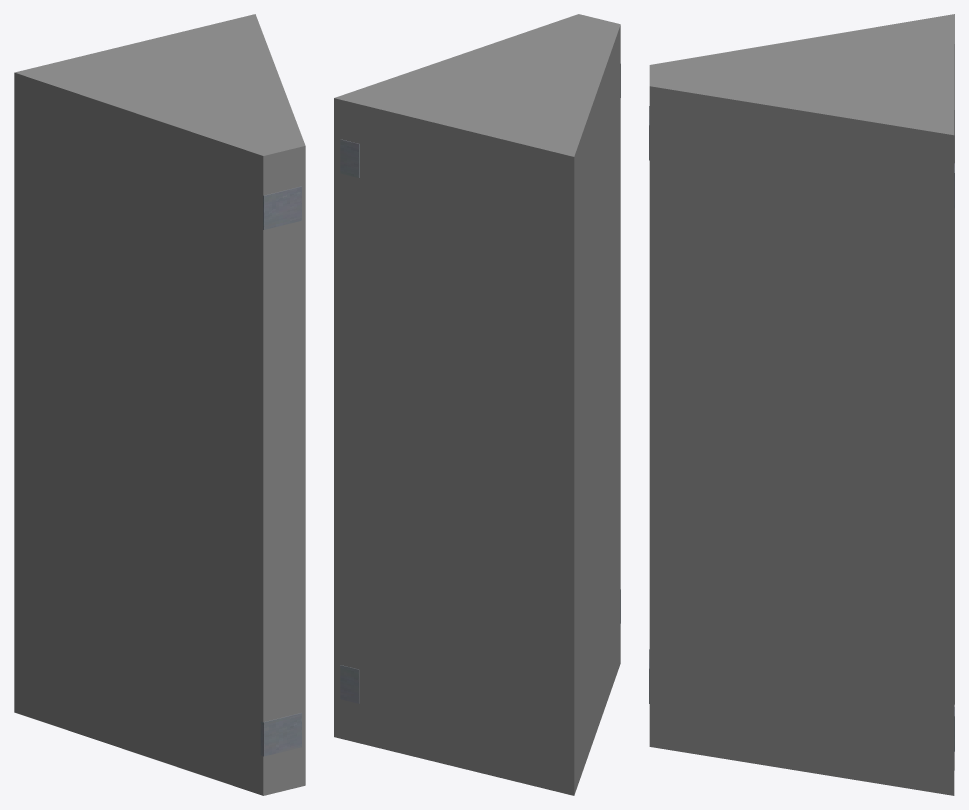
The model's file is barrier1.obj.
The picture shows the model from 3 angles, left to right: view 1: azimuth 30°, elevation 25°; view 2: azimuth 150°, elevation 25°; view 3: azimuth 270°, elevation 25°; orthographic projection. The views are drawn at different scales.
Parts seen in each view (by area): view 1: Barrier1; view 2: Barrier1; view 3: Barrier1.
Boxes of the visible parts, x1,y1,x2,y2 form: Barrier1: (14,14,305,795); Barrier1: (334,14,620,795); Barrier1: (649,14,954,795).
Size of the model in its own units: 0.0813 by 0.2064 by 0.0866.
